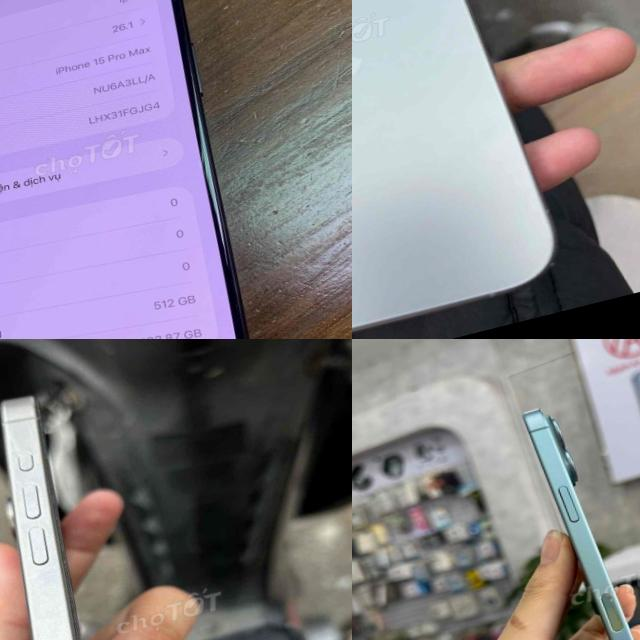gen_15: (0, 0, 293, 339), (352, 0, 572, 339), (0, 369, 180, 640)
gen_16: (523, 409, 632, 640)
